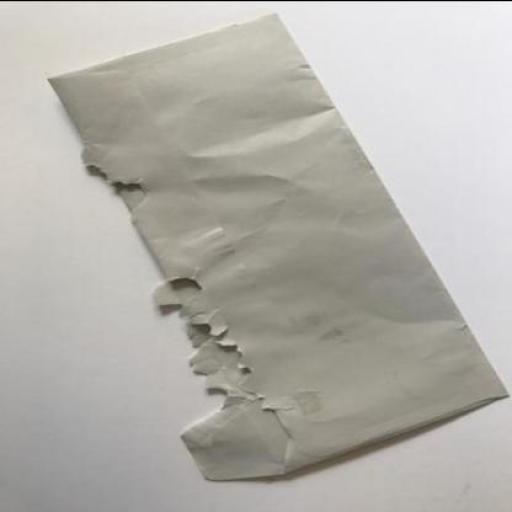paper: (46, 12, 510, 479)
